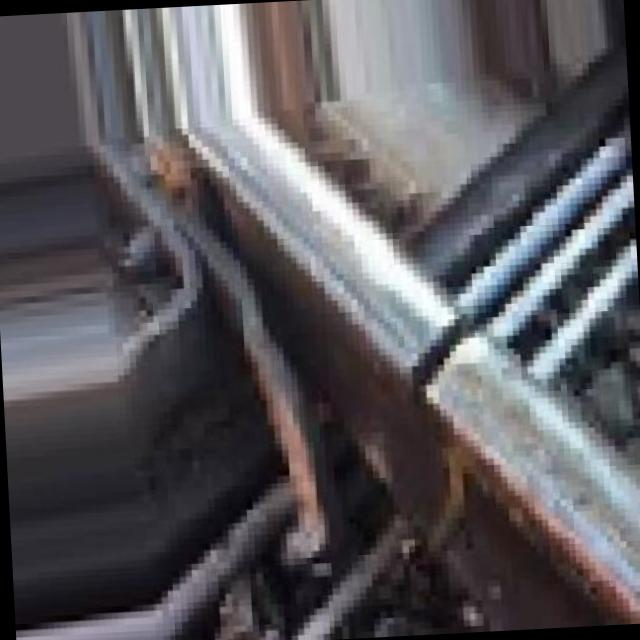defective: (330, 278, 546, 610)
